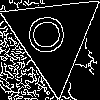O: (28, 12, 74, 56)
